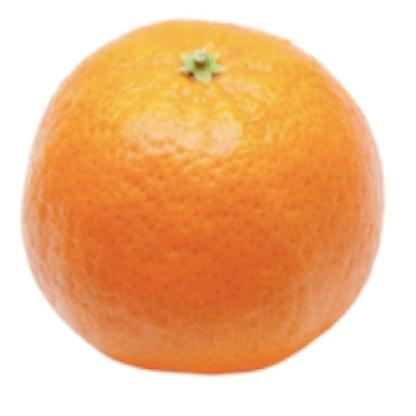fresh: (25, 21, 383, 374)
